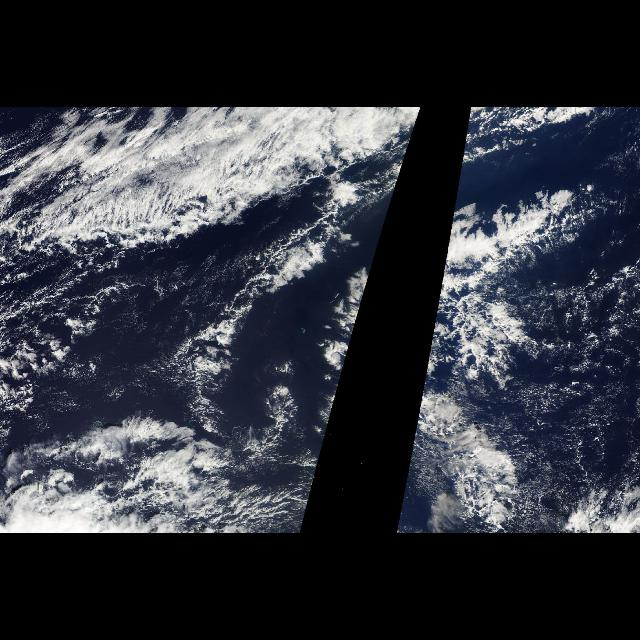Fish: (95, 120, 417, 430), (413, 120, 492, 430)
Gravel: (395, 254, 507, 530), (358, 254, 378, 316)
Sugar: (516, 254, 634, 496)
